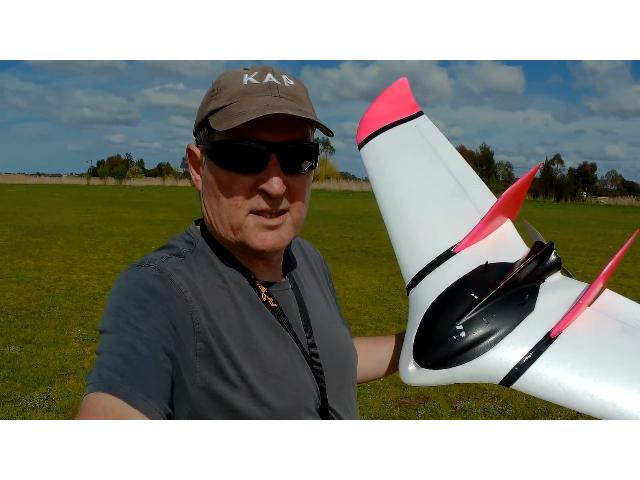Anti-Drone: (340, 79, 640, 419)
